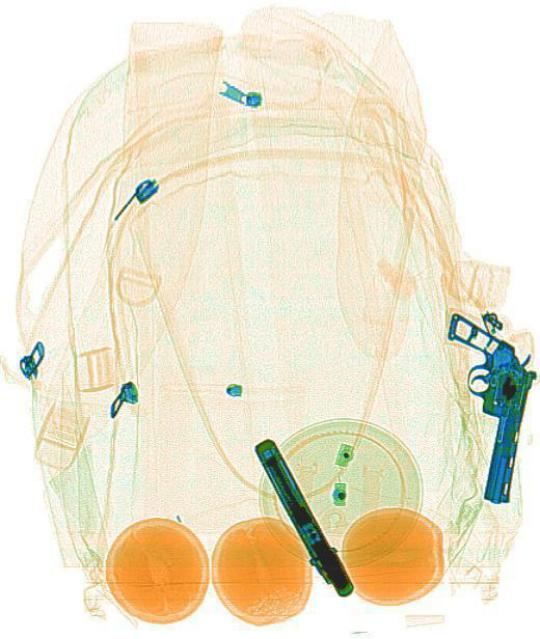Gun: (415, 308, 537, 505), (244, 431, 356, 603)
